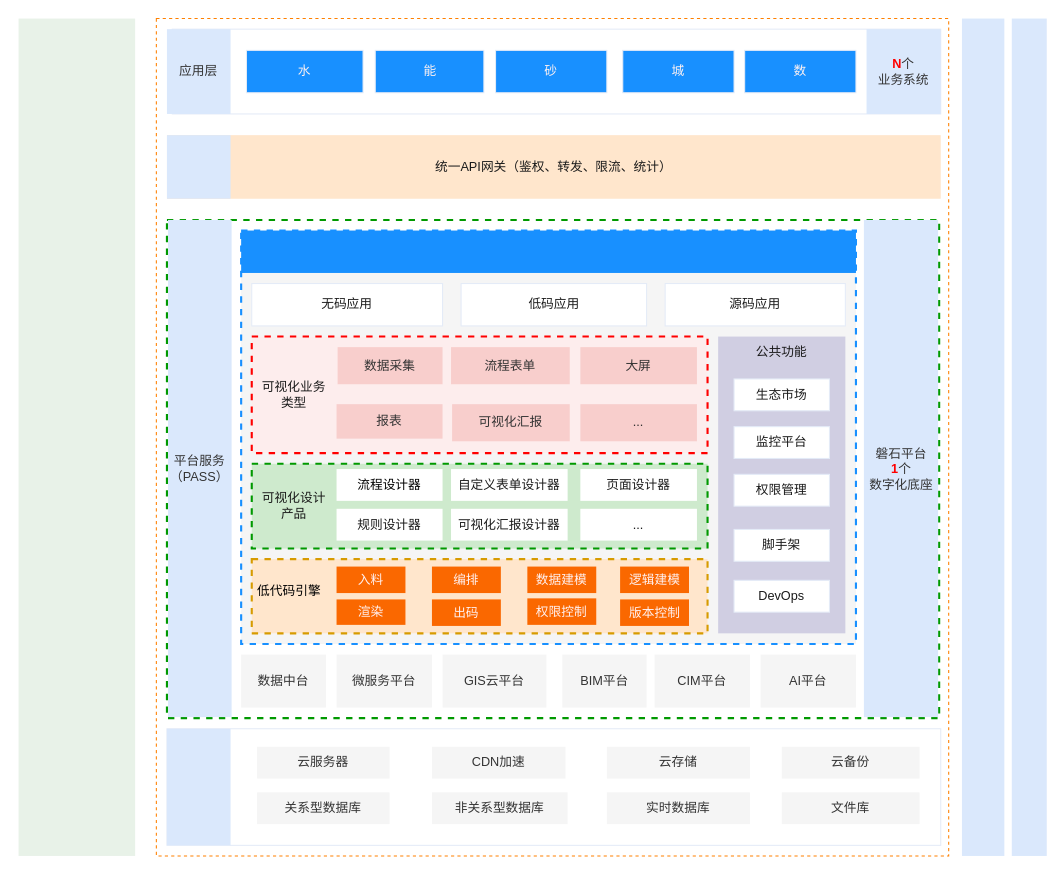
Image size: 1064x874. Some labels were removed from this diagram. The centre of each missing label's shape, as x and y in pixels:
基础服务 （IaaS）: (198,786)
安全体系 主机安全 应用安全 数据安全 业务安全: (1028,436)
开发者社区: (982,436)
微前端平台（Zebras）: (548,251)
服务网关: (198,166)
第三方系统集成 钉钉 企业微信: (76,436)
